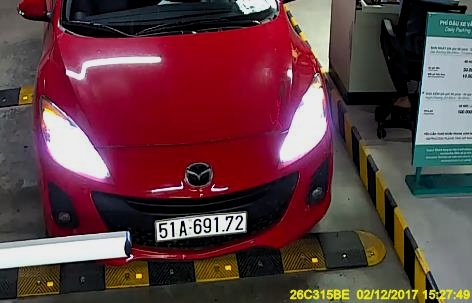plate: (152, 214, 247, 239)
